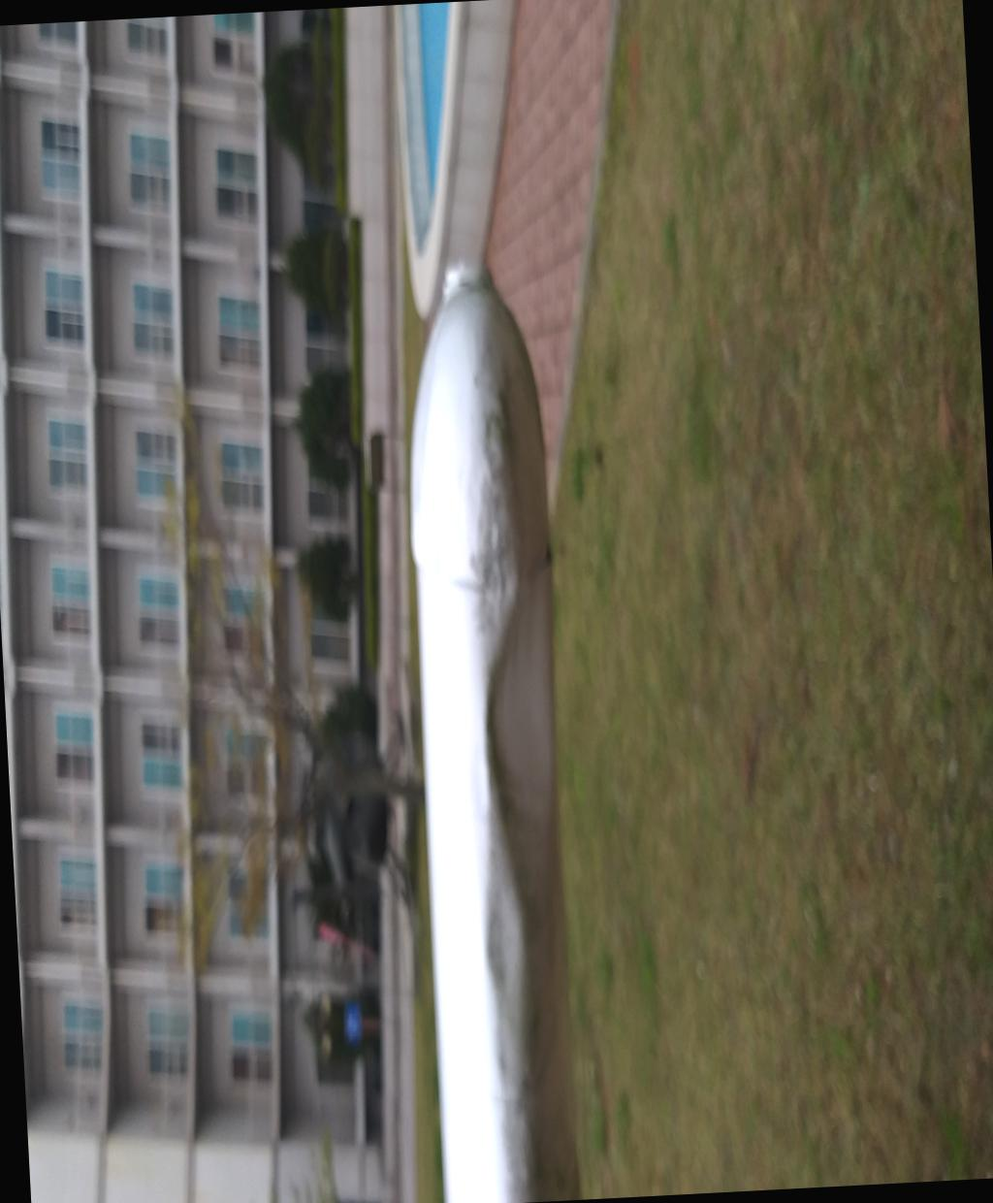dent: (52, 1181, 233, 1203), (28, 1157, 83, 1203)
